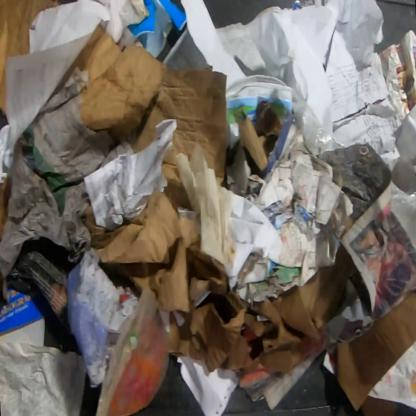cardboard: (85, 188, 355, 378), (50, 24, 228, 210), (333, 289, 415, 413), (0, 0, 81, 121), (237, 115, 268, 173)
rigid_plastic: (94, 287, 171, 415), (225, 74, 294, 150), (126, 0, 186, 58)
soft_plastic: (296, 108, 348, 155), (391, 180, 415, 249)
